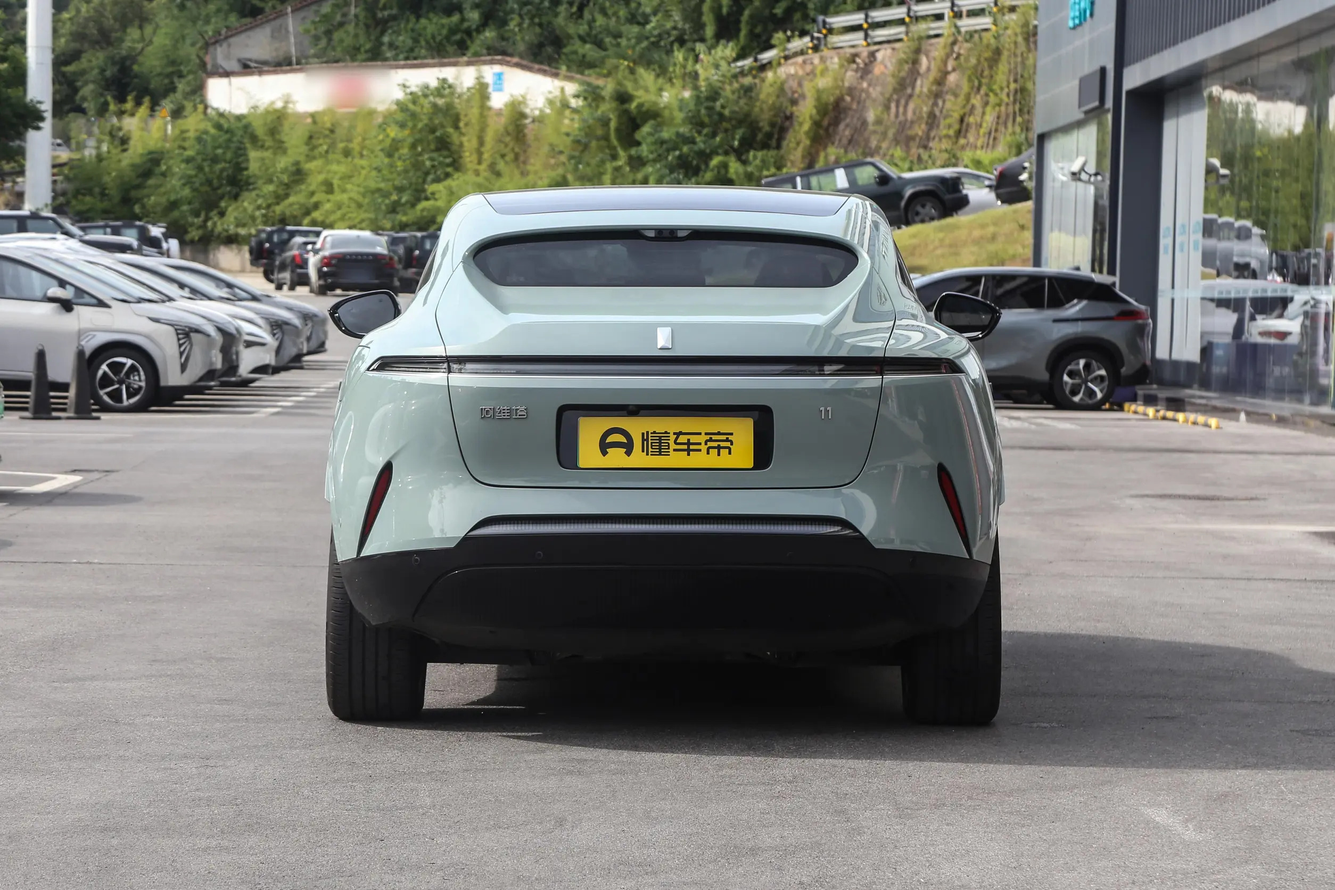AVATR: (657, 327, 671, 349)
